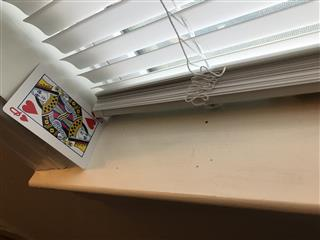QueenOfHearts: (2, 62, 106, 169)
